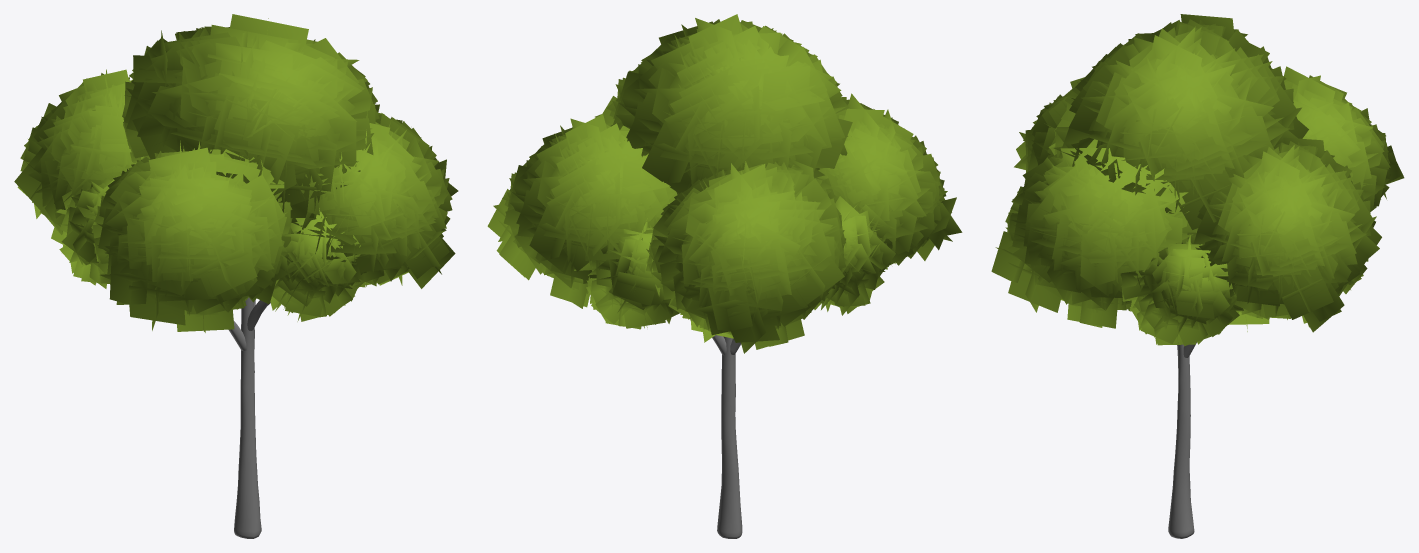
File: SM_tree_broadleaf_02.fbx
3 renders of one model, left to right at view 1: azimuth 30°, elevation 25°; view 2: azimuth 150°, elevation 25°; view 3: azimuth 270°, elevation 25°, orthographic. The views are drawn at different scales.
Visible parts, largest first — view 1: Group63280; view 2: Group63280; view 3: Group63280.
Boxes of the visible parts, left/top/right/bottom form: Group63280: left=14, top=14, right=458, bottom=538; Group63280: left=487, top=14, right=962, bottom=538; Group63280: left=991, top=14, right=1404, bottom=538.
Bounding box in the file's own units: 209 × 282 × 209.
